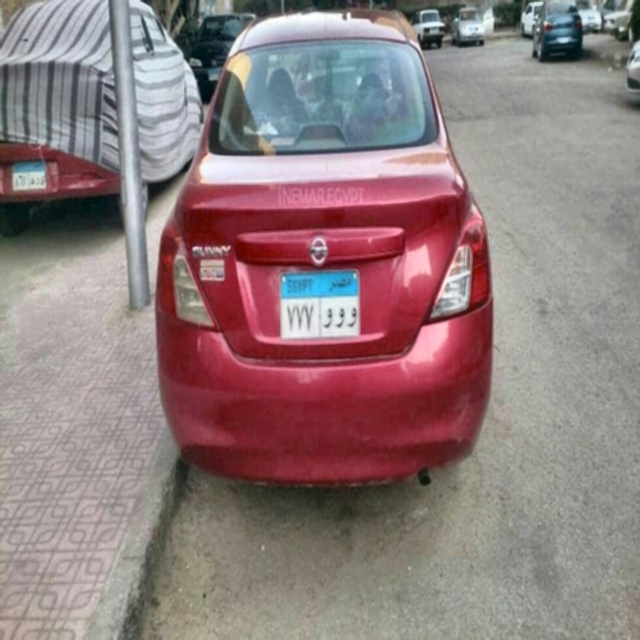License Plate: (279, 267, 362, 344)
